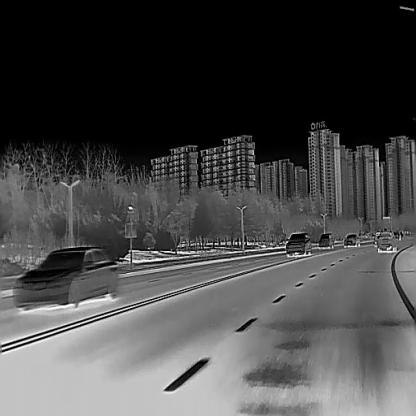car: (14, 244, 118, 309), (285, 232, 311, 256), (376, 230, 397, 252), (318, 232, 334, 249), (344, 233, 360, 247), (373, 231, 380, 245)
